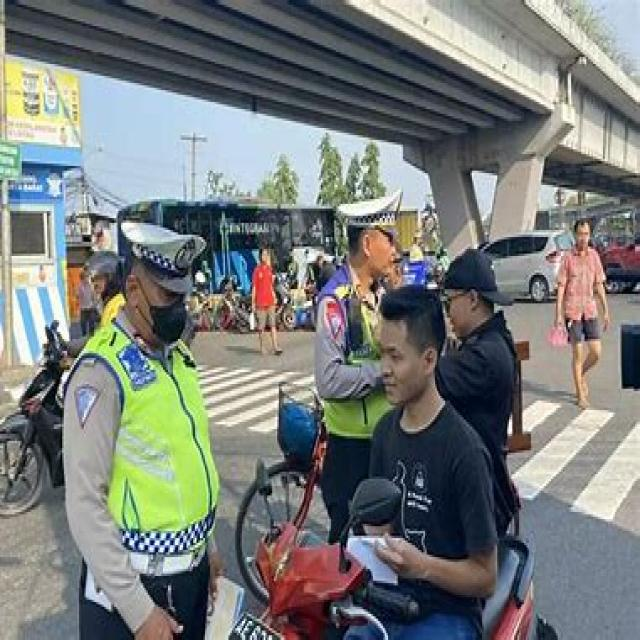Without Helmet: (373, 279, 445, 407)
